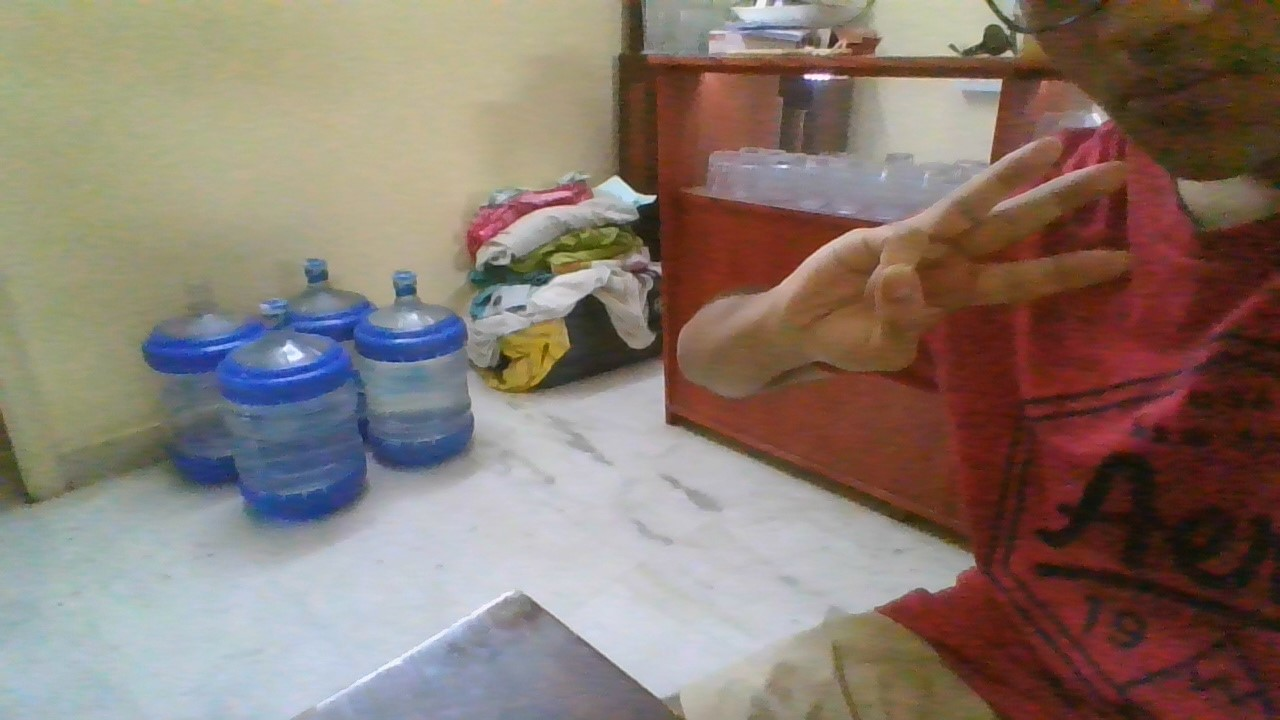w: (782, 129, 1142, 374)
